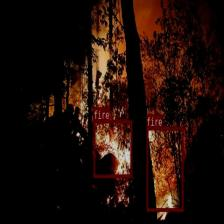fire: (146, 126, 183, 210), (93, 119, 132, 177)
